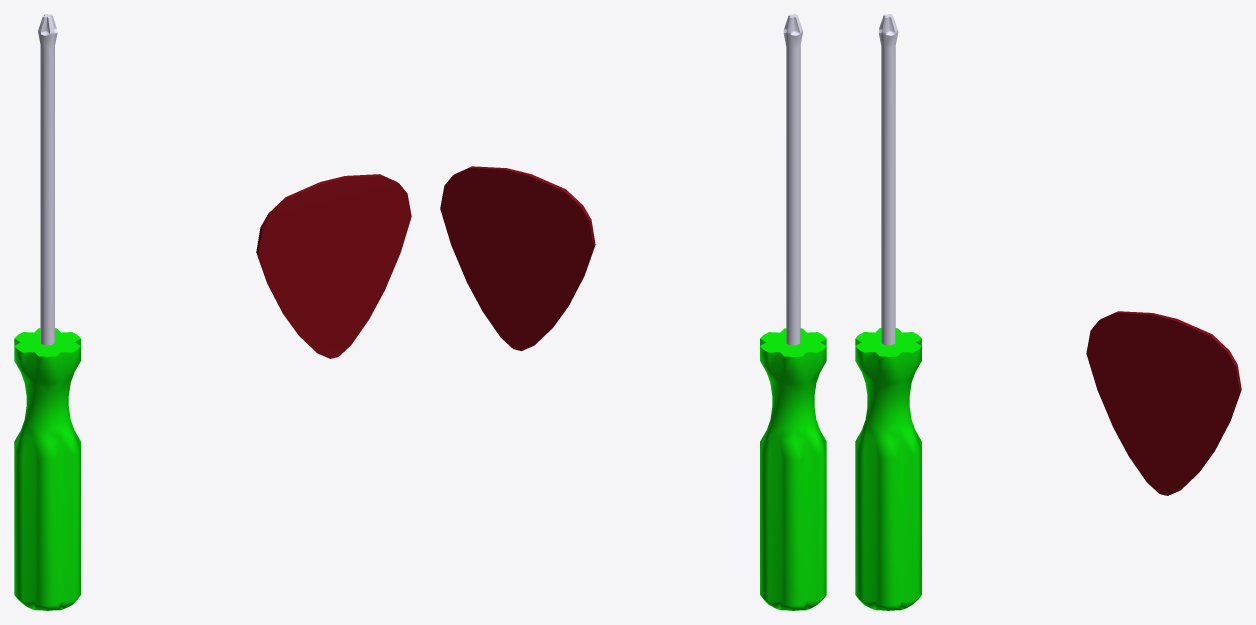
File: step_2_tools.fbx
3 views of the same model, side by side, from view 1: azimuth 30°, elevation 25°; view 2: azimuth 150°, elevation 25°; view 3: azimuth 330°, elevation 25° (orthographic).
Visible parts, largest first — view 1: GuitarPick_0; view 2: GuitarPick_0; view 3: GuitarPick_0.
Boxes of the visible parts, left/top/right/bottom form: GuitarPick_0: left=14, top=14, right=411, bottom=610; GuitarPick_0: left=440, top=14, right=826, bottom=610; GuitarPick_0: left=855, top=14, right=1241, bottom=610.
Bounding box in the file's own units: 385 × 558 × 57.56.
